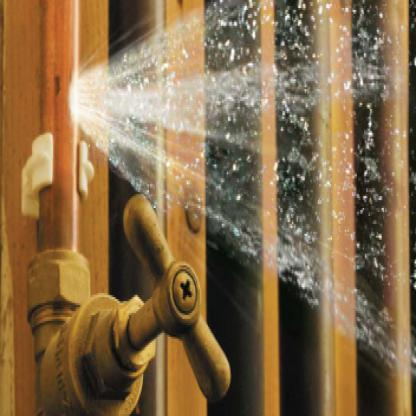burst: (59, 72, 124, 157)
